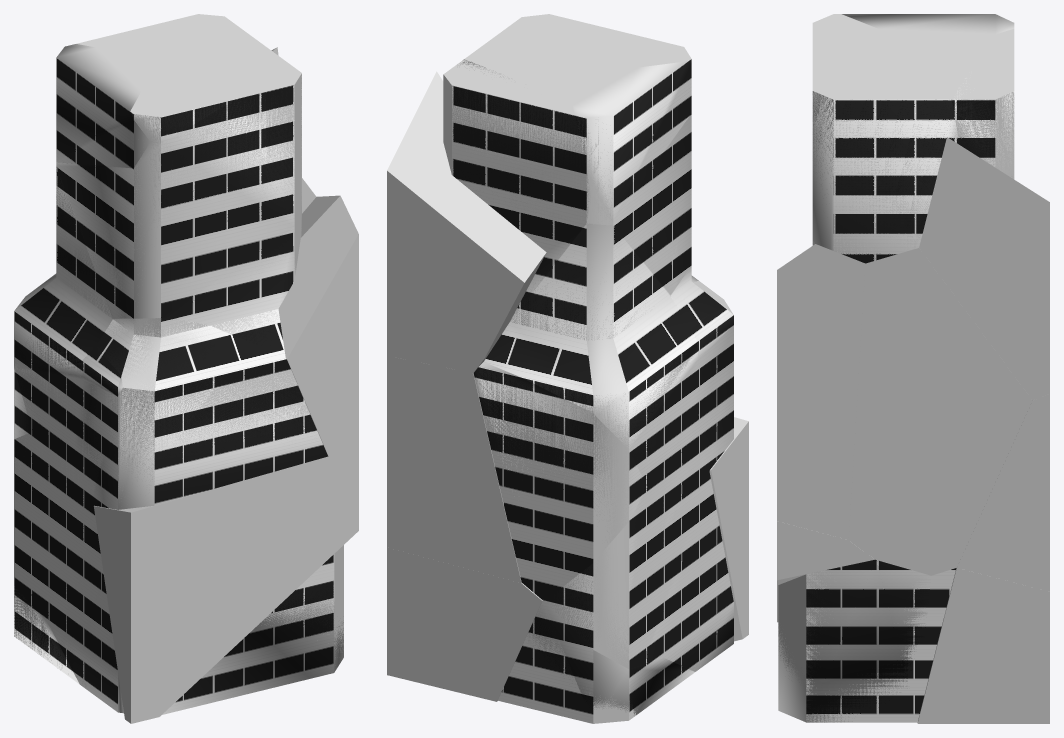
The model's file is debri10.fbx.
The picture shows the model from 3 angles, left to right: view 1: azimuth 30°, elevation 25°; view 2: azimuth 150°, elevation 25°; view 3: azimuth 270°, elevation 25°; orthographic projection. The views are drawn at different scales.
Parts seen in each view (by area): view 1: polySurface1, polySurface1_cell.003, polySurface1_cell.005, polySurface1_cell.017, polySurface1_cell.009, polySurface1_cell.006, polySurface1_cell.015, polySurface1_cell.004, polySurface1_cell, polySurface1_cell.007, polySurface1_cell.018, polySurface1_cell.013 (+3 smaller); view 2: polySurface1, polySurface1_cell.006, polySurface1_cell.008, polySurface1_cell.002, polySurface1_cell.014, polySurface1_cell.004, polySurface1_cell.016, polySurface1_cell.011, polySurface1_cell.001, polySurface1_cell.005, polySurface1_cell, polySurface1_cell.018 (+3 smaller); view 3: polySurface1_cell.010, polySurface1, polySurface1_cell.009, polySurface1_cell.008, polySurface1_cell.005, polySurface1_cell.015, polySurface1_cell.014, polySurface1_cell.002, polySurface1_cell.003, polySurface1_cell.004, polySurface1_cell.001.
Part boxes in pixels (x1,y1,x2,y2): polySurface1: (14, 14, 343, 686); polySurface1_cell.003: (93, 456, 358, 723); polySurface1_cell.005: (56, 76, 301, 318); polySurface1_cell.017: (74, 317, 327, 509); polySurface1_cell.009: (278, 195, 358, 473); polySurface1_cell.006: (14, 167, 112, 433); polySurface1_cell.015: (162, 584, 343, 714); polySurface1_cell.004: (56, 44, 150, 168); polySurface1_cell: (48, 501, 123, 713); polySurface1_cell.007: (172, 227, 295, 352); polySurface1_cell.018: (14, 586, 79, 683); polySurface1_cell.013: (131, 98, 236, 143); polySurface1: (443, 14, 731, 723); polySurface1_cell.006: (484, 224, 698, 473); polySurface1_cell.008: (387, 71, 546, 373); polySurface1_cell.002: (387, 356, 521, 583); polySurface1_cell.014: (387, 547, 542, 701); polySurface1_cell.004: (571, 61, 691, 221); polySurface1_cell.016: (473, 362, 647, 542); polySurface1_cell.011: (546, 438, 697, 664); polySurface1_cell.001: (452, 59, 591, 243); polySurface1_cell.005: (586, 114, 691, 285); polySurface1_cell: (663, 470, 733, 671); polySurface1_cell.018: (527, 600, 694, 716); polySurface1_cell.010: (848, 248, 1032, 575); polySurface1: (778, 14, 1014, 722); polySurface1_cell.009: (777, 244, 865, 539); polySurface1_cell.008: (919, 137, 1049, 400); polySurface1_cell.005: (812, 91, 959, 262); polySurface1_cell.015: (778, 559, 930, 722); polySurface1_cell.014: (917, 568, 1049, 723); polySurface1_cell.002: (957, 394, 1049, 591); polySurface1_cell.003: (777, 521, 874, 622); polySurface1_cell.004: (842, 14, 1014, 36); polySurface1_cell.001: (952, 78, 1014, 178).
Size of the model in its own units: 1272 by 3111 by 1262.
